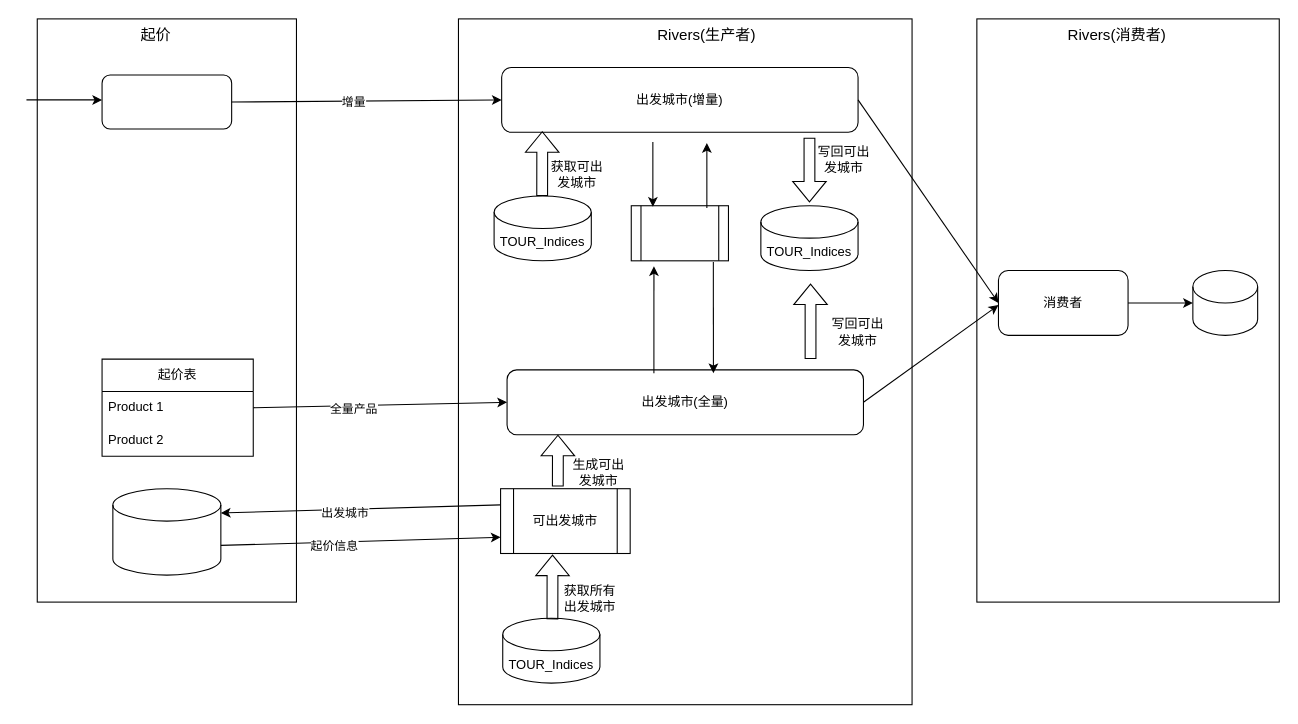
This 1298x724 diagram has some shape labels left out. The shapes that lost their labels are listed below. From the top down, each one's box as (x1, y1, x2, y2) in pixels, then its label:
(101, 74, 232, 129): 出发城市(增量) 100003091 QMQ Topic
(630, 205, 728, 261): 校验起价消息
(1192, 269, 1258, 335): ES
(112, 488, 221, 575): 起价Redis
